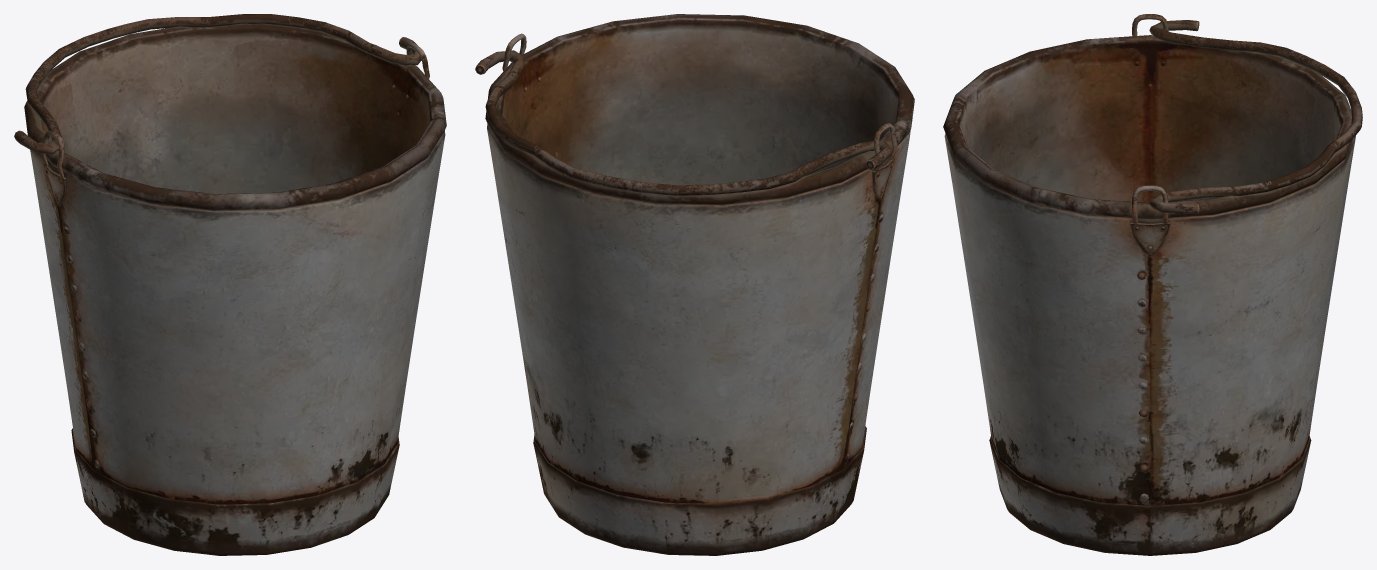
File: Bucket.glb
3 renders of one model, left to right at view 1: azimuth 30°, elevation 25°; view 2: azimuth 150°, elevation 25°; view 3: azimuth 270°, elevation 25°, orthographic. The views are drawn at different scales.
Parts seen in each view (by area): view 1: handle_M_Bucket_0; view 2: handle_M_Bucket_0; view 3: handle_M_Bucket_0.
Part boxes in pixels (left/top/right/bottom): handle_M_Bucket_0: left=14, top=14, right=446, bottom=555; handle_M_Bucket_0: left=475, top=14, right=914, bottom=555; handle_M_Bucket_0: left=943, top=14, right=1362, bottom=555.
Size of the model in its own units: 0.2727 by 0.2656 by 0.2566.
1 material, 1 textured.
